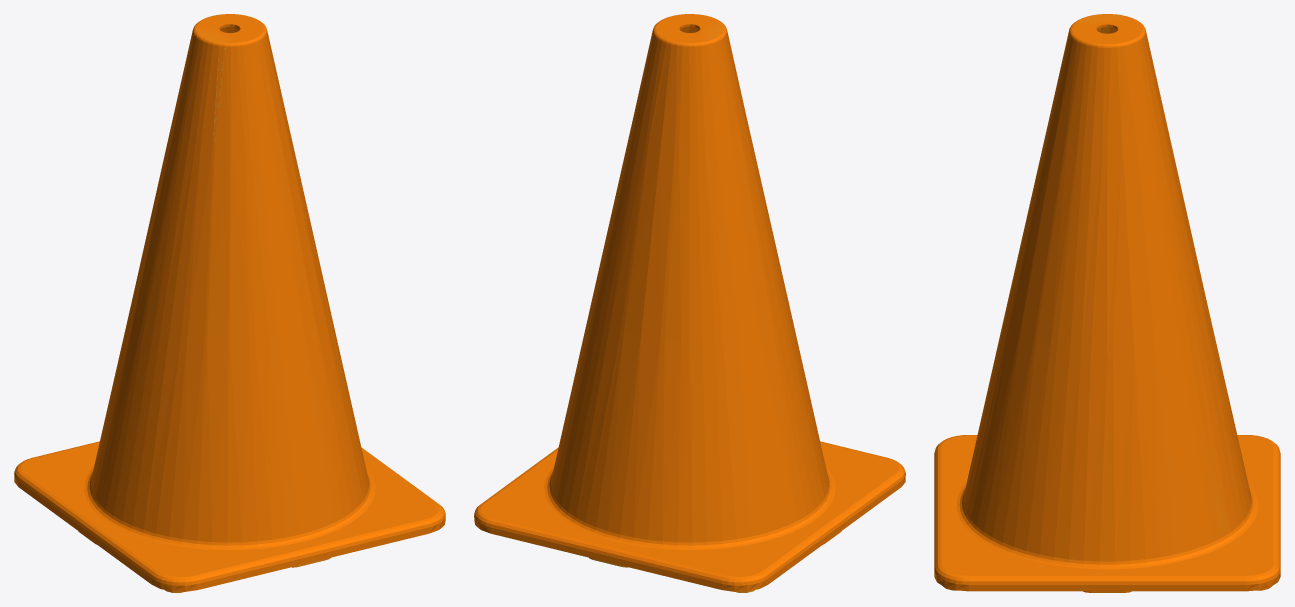
3 renders of one model, left to right at view 1: azimuth 30°, elevation 25°; view 2: azimuth 150°, elevation 25°; view 3: azimuth 270°, elevation 25°, orthographic. The views are drawn at different scales.
Parts seen in each view (by area): view 1: Base Link; view 2: Base Link; view 3: Base Link.
Part boxes in pixels (x1,y1,x2,y2): Base Link: (14,14,445,592); Base Link: (474,14,905,592); Base Link: (934,14,1280,592).
Bounding box in the file's own units: 0.5007 × 0.5007 × 0.784.
Materials: 1 (1 with a texture image).
